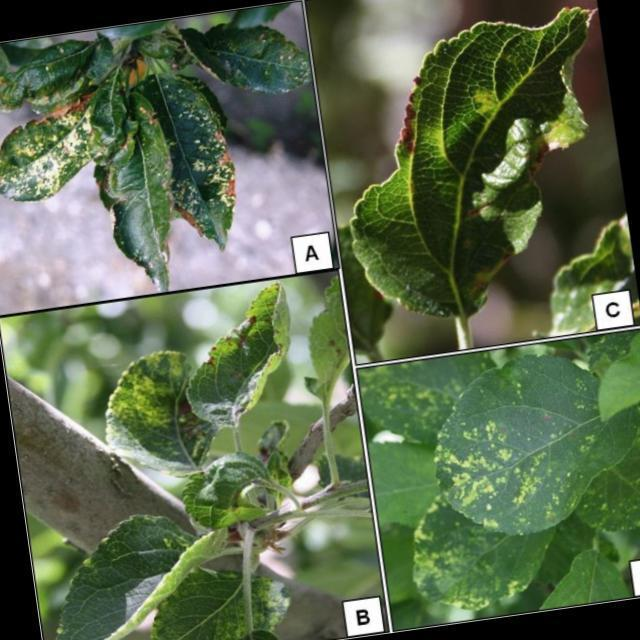Mosaic Virus: (433, 350, 618, 539), (92, 342, 214, 511), (398, 492, 534, 630), (150, 64, 250, 225), (358, 348, 497, 445), (154, 568, 297, 640), (0, 104, 96, 197)
